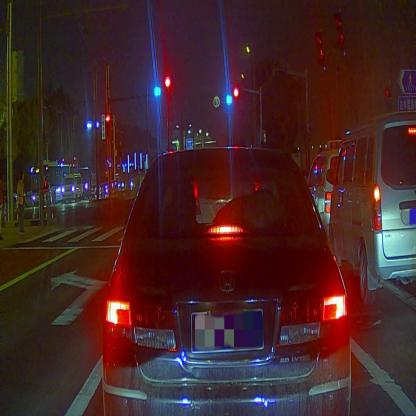Red Light: (105, 111, 111, 139), (165, 75, 171, 102)
